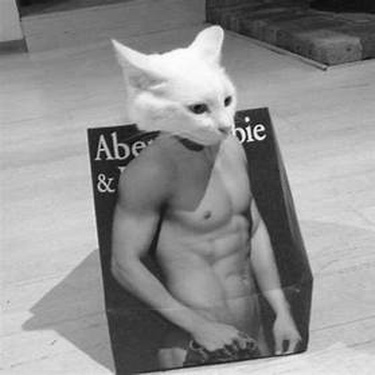cat: (112, 21, 237, 146)
